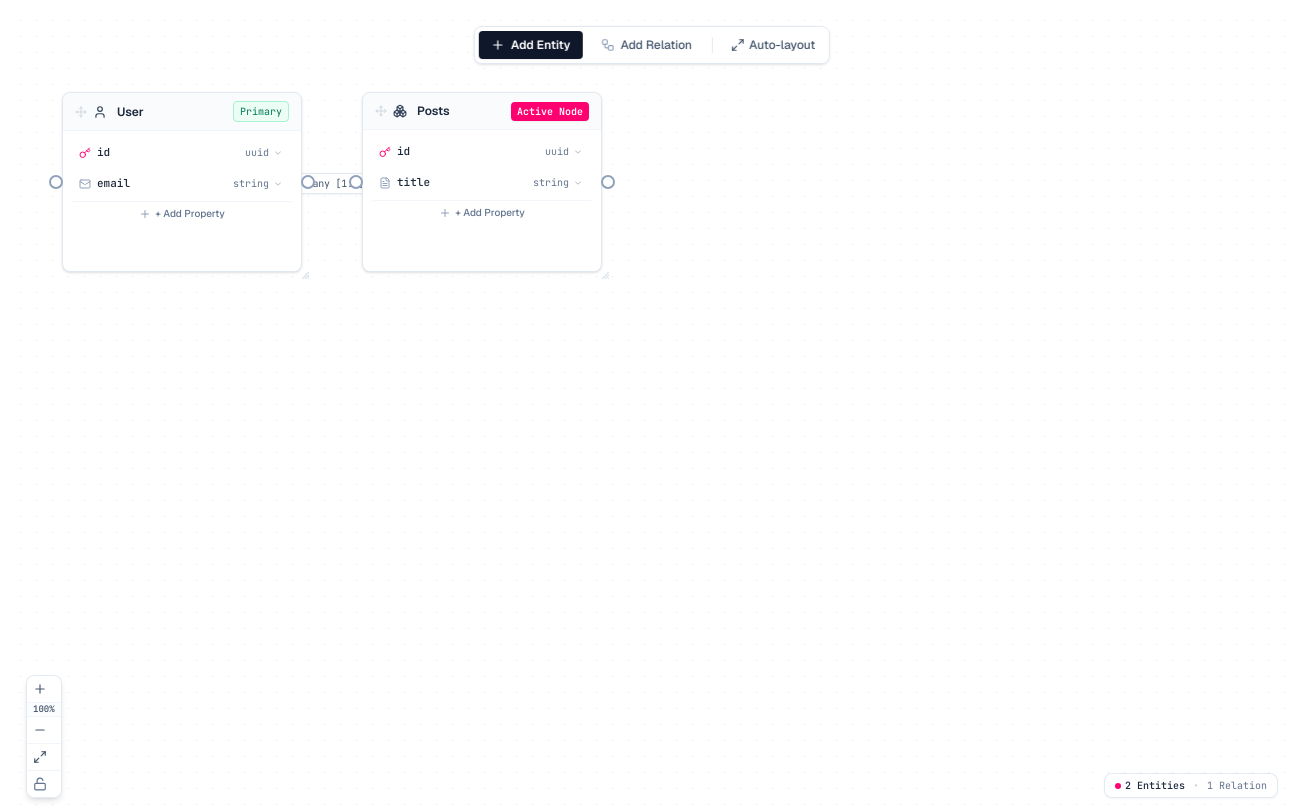
Scenario: CanvasWorkbench Component › correctly adds a new node record to the React state array when simulated in a test wrapper
Expected: the field showing "Organization" is not shown
Click the button "Add Entity" at (531, 45), box 479,31 -> 582,59
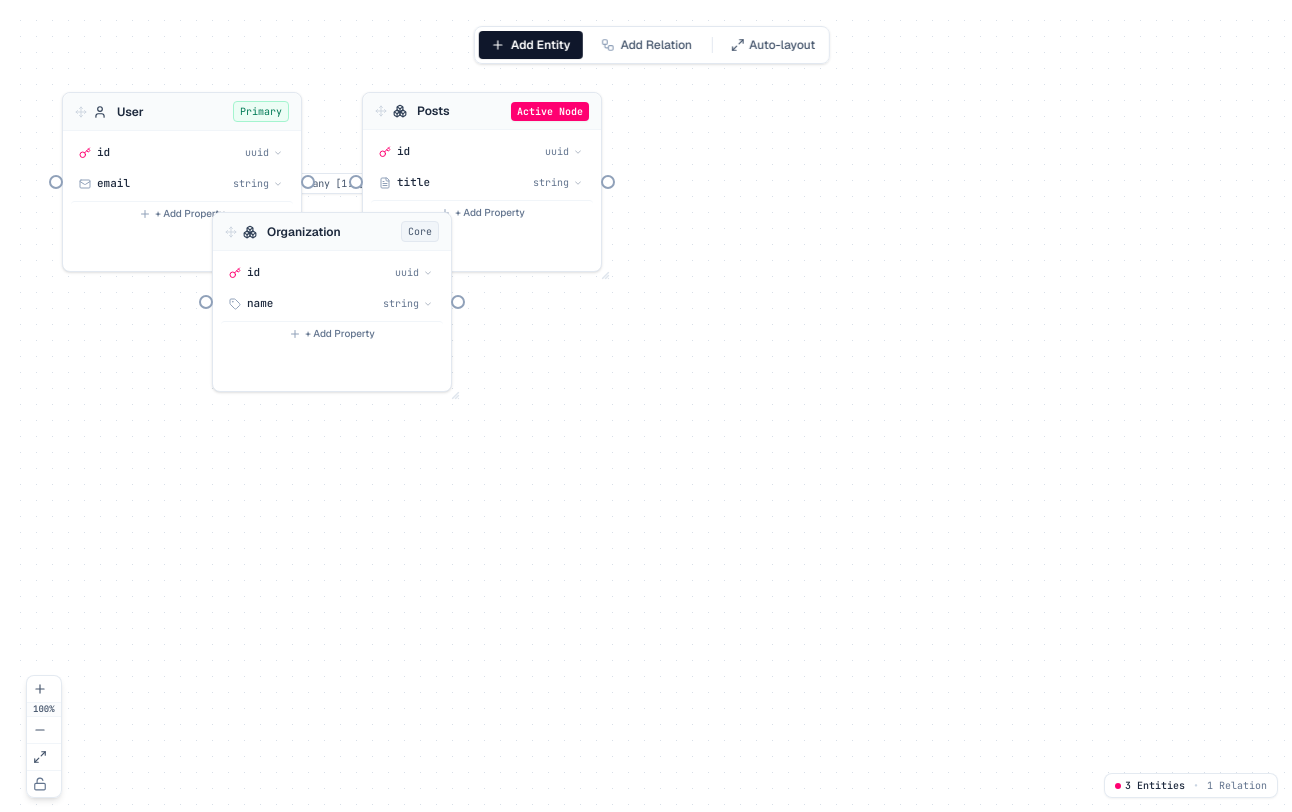
Expected: the field showing "Organization" next to "Core" is shown, 263,222 -> 397,242
